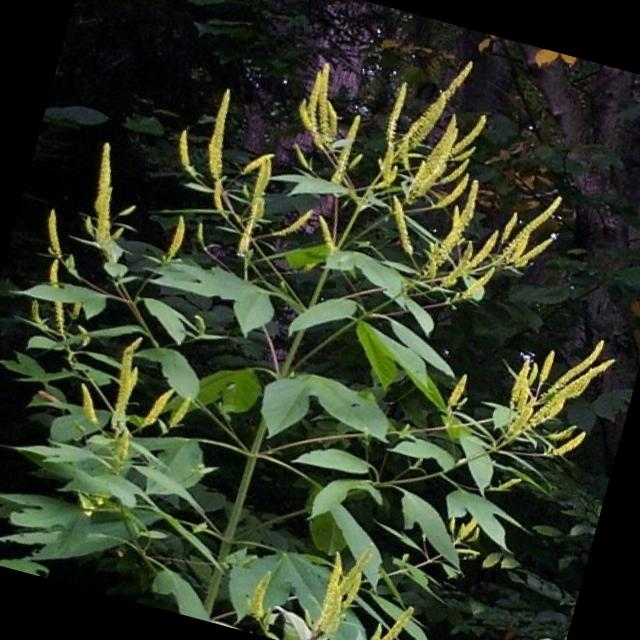ambrosia: (220, 6, 613, 341), (9, 125, 211, 363), (455, 307, 623, 495), (212, 511, 439, 640), (68, 356, 197, 480)
